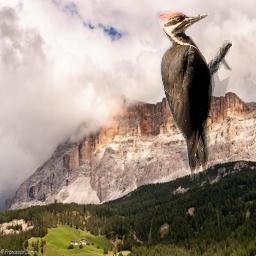Woodpecker: (156, 11, 232, 181)
